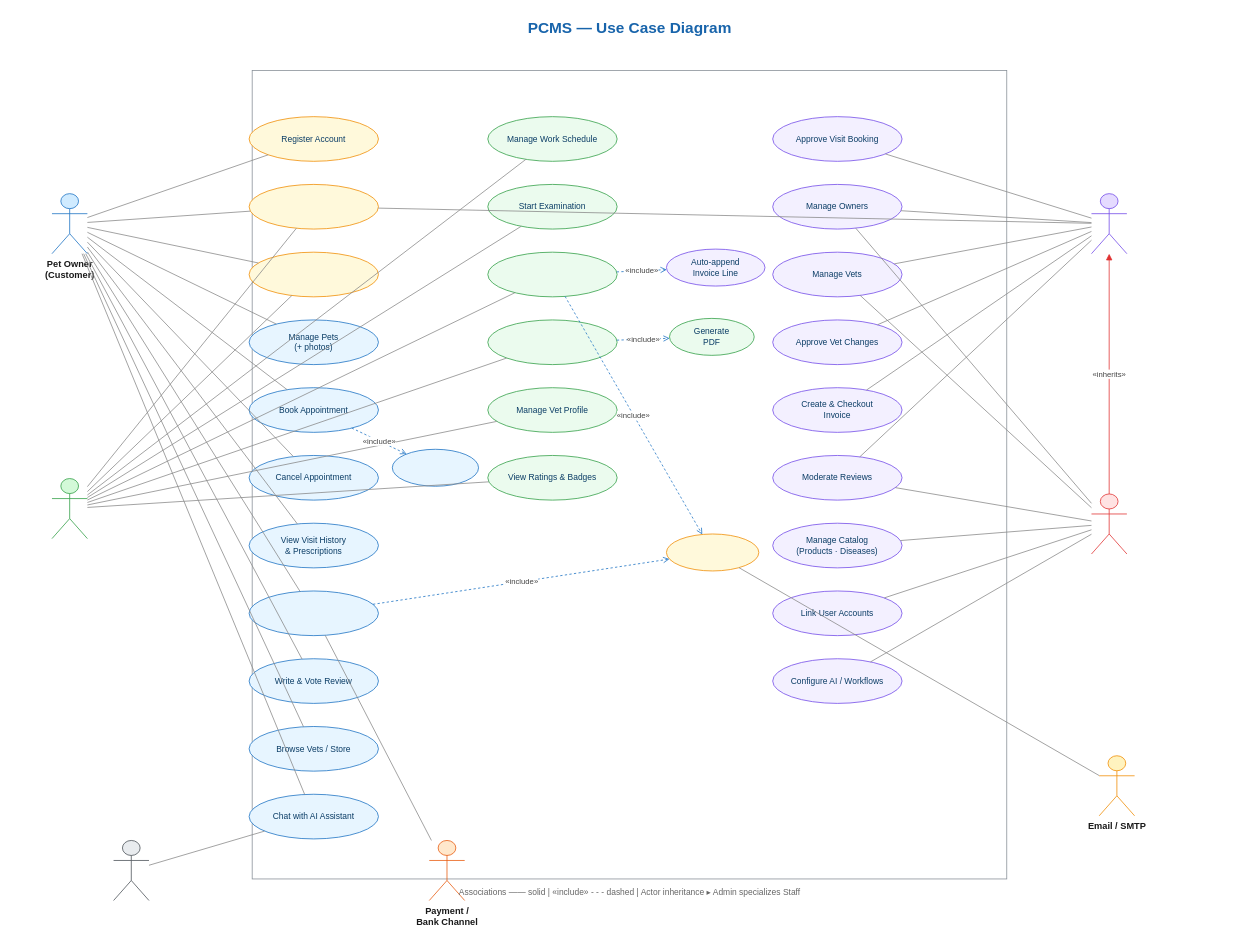
The diagram is 1258 pixels wide and 941 high, and some of its shapes have lost their labels. Each missing label, with the box of its shape:
Administrator: (1091, 493, 1127, 554)
Check Vet Availability: (392, 449, 479, 486)
Clinic Staff (Receptionist): (1091, 193, 1127, 254)
Complete Visit & Diagnose: (487, 251, 617, 297)
Issue Prescription: (487, 319, 617, 365)
LLM Provider (OpenRouter): (113, 840, 149, 901)
Login / Logout: (248, 184, 378, 229)
Manage Profile & Password: (248, 251, 378, 297)
PetClinic Management System (PCMS): (251, 70, 1007, 879)
Send Email Notification: (666, 533, 759, 571)
Veterinarian: (51, 478, 87, 539)
View & Pay Invoice: (248, 590, 378, 636)
